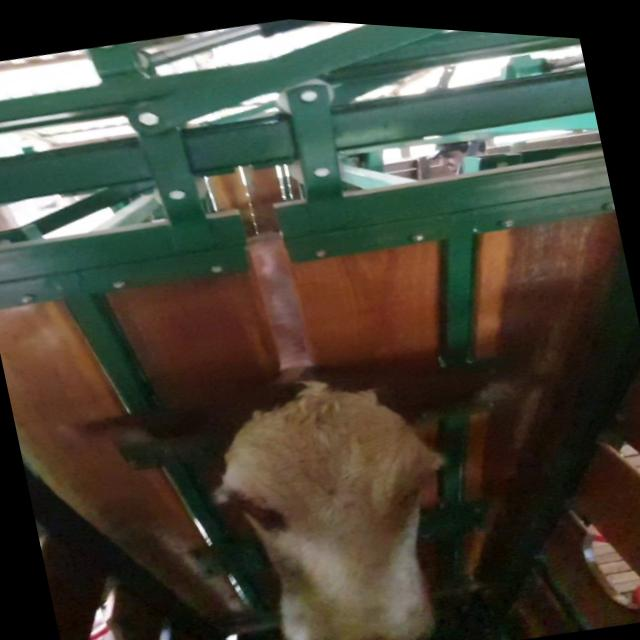cowFace: (206, 348, 476, 640)
